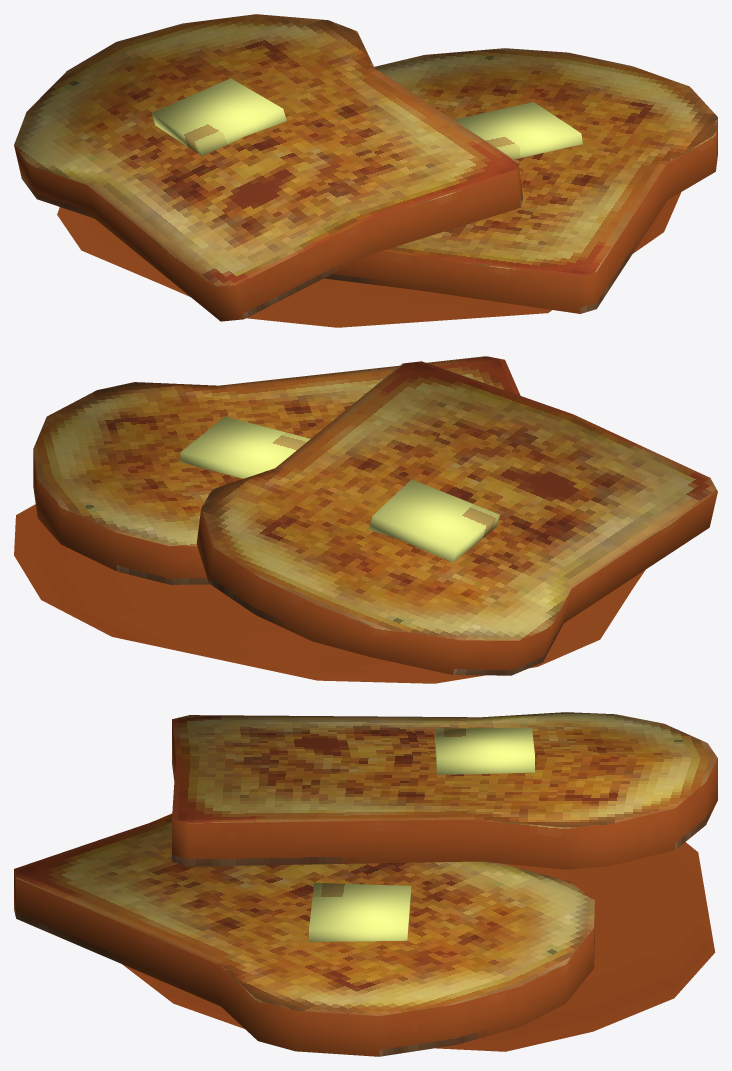
Rendered from FrenchToast_Sapph.fbx.
3 views of the same model, one above another, from view 1: azimuth 30°, elevation 25°; view 2: azimuth 150°, elevation 25°; view 3: azimuth 270°, elevation 25° (orthographic). The views are drawn at different scales.
Visible parts, largest first — view 1: BreadSlices001; view 2: BreadSlices001; view 3: BreadSlices001.
Part boxes in pixels (<box>): BreadSlices001: <box>14,14,717,327</box>; BreadSlices001: <box>14,356,717,683</box>; BreadSlices001: <box>14,712,717,1056</box>.
Size of the model in its own units: 47.26 by 8.09 by 46.
